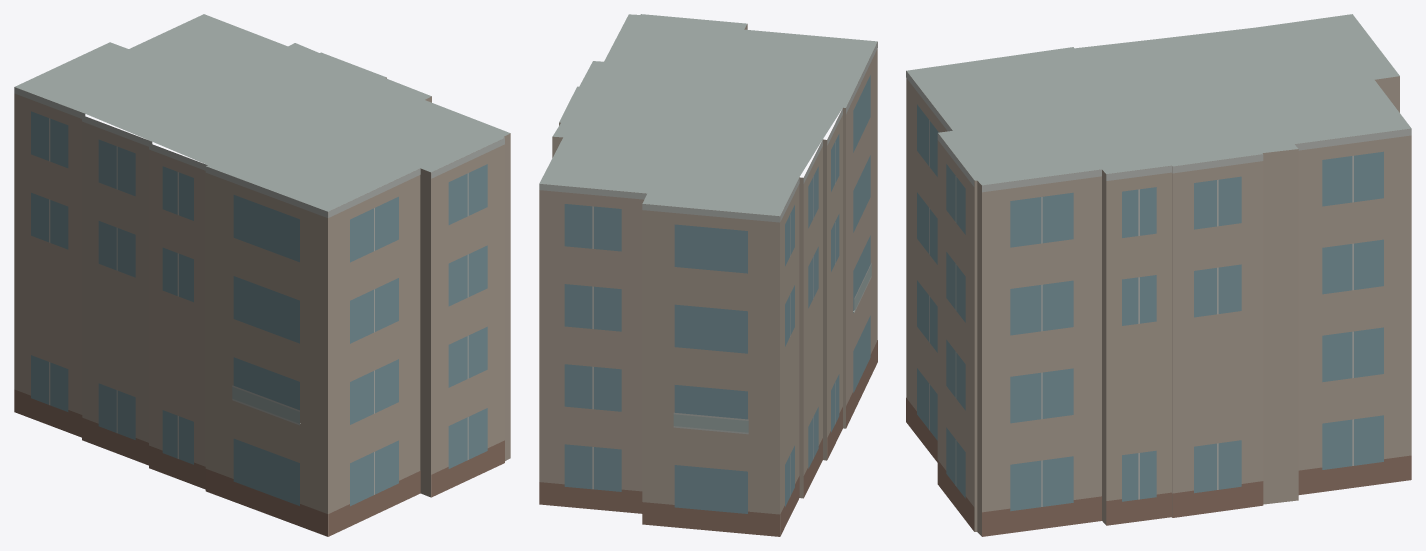
The model's file is survey-upis-32661389.glb.
3 views of the same model, side by side, from view 1: azimuth 30°, elevation 25°; view 2: azimuth 150°, elevation 25°; view 3: azimuth 270°, elevation 25° (orthographic). The views are drawn at different scales.
Visible parts, largest first — view 1: survey-upis-32661389.tmp; view 2: survey-upis-32661389.tmp; view 3: survey-upis-32661389.tmp.
Part boxes in pixels (box(x1,y1,x2,y2)): survey-upis-32661389.tmp: box(14, 14, 510, 536); survey-upis-32661389.tmp: box(539, 14, 877, 536); survey-upis-32661389.tmp: box(906, 14, 1411, 536).
Size of the model in its own units: 12.94 by 12.36 by 16.12.
